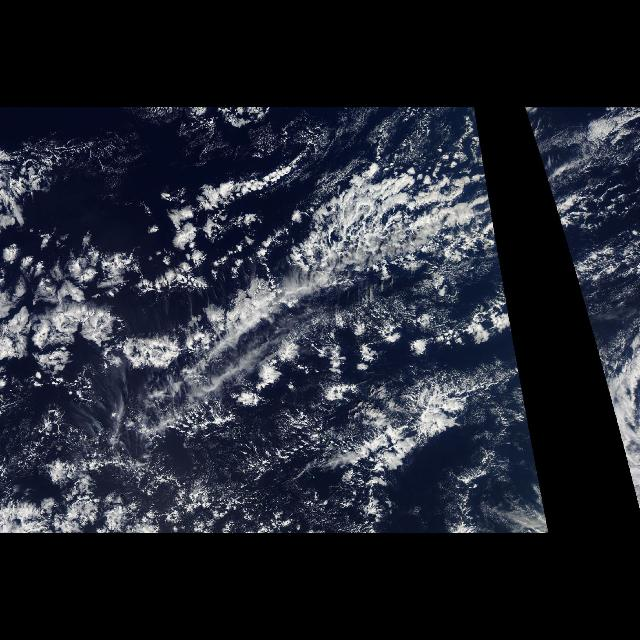Flower: (2, 189, 215, 381)
